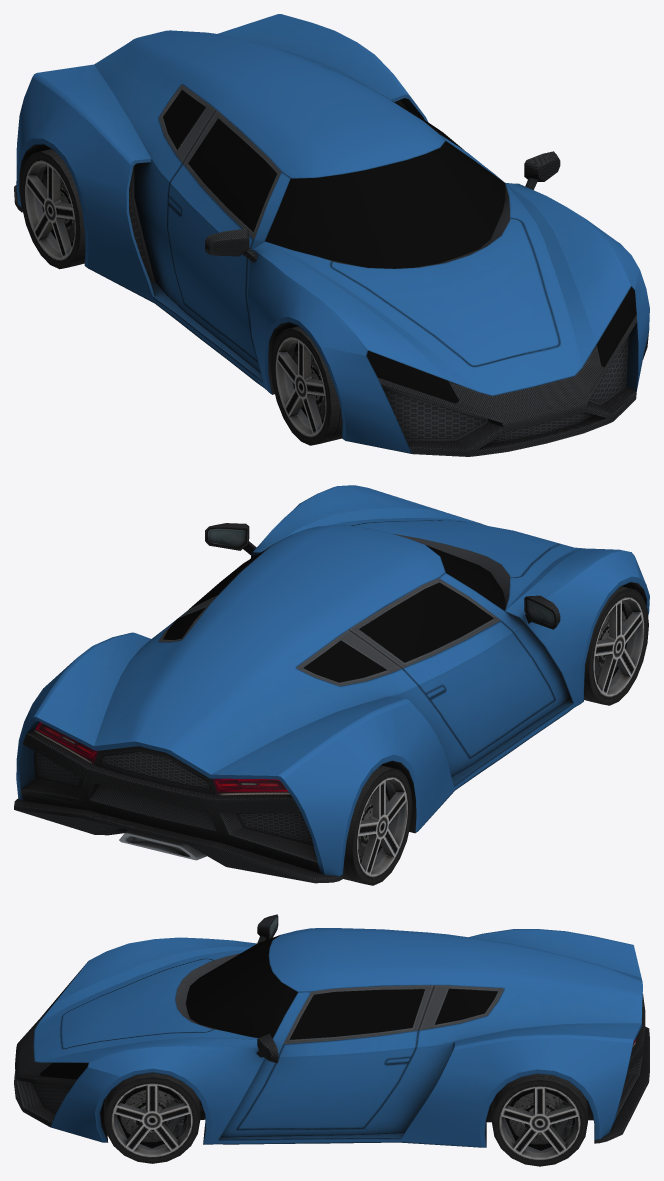
File: Fantastic_Race_Car_54.glb
The picture shows the model from 3 angles, top to bottom: view 1: azimuth 30°, elevation 25°; view 2: azimuth 150°, elevation 25°; view 3: azimuth 270°, elevation 25°; orthographic projection. The views are drawn at different scales.
Parts seen in each view (by area): view 1: unnamed (×5); view 2: unnamed (×6); view 3: unnamed (×6).
Boxes of the visible parts, left/top/right/bottom form: unnamed (×5): left=14, top=14, right=649, bottom=456; unnamed (×6): left=14, top=485, right=649, bottom=885; unnamed (×6): left=14, top=914, right=649, bottom=1166.
Size of the model in its own units: 2.39 by 1.27 by 4.71.
Materials: 6 (5 with a texture image).
